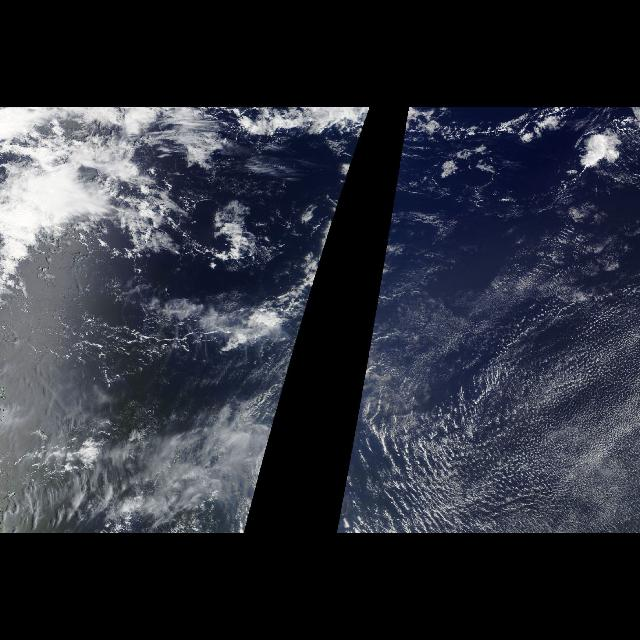Gravel: (34, 260, 206, 380)
Sugar: (390, 256, 640, 532)
